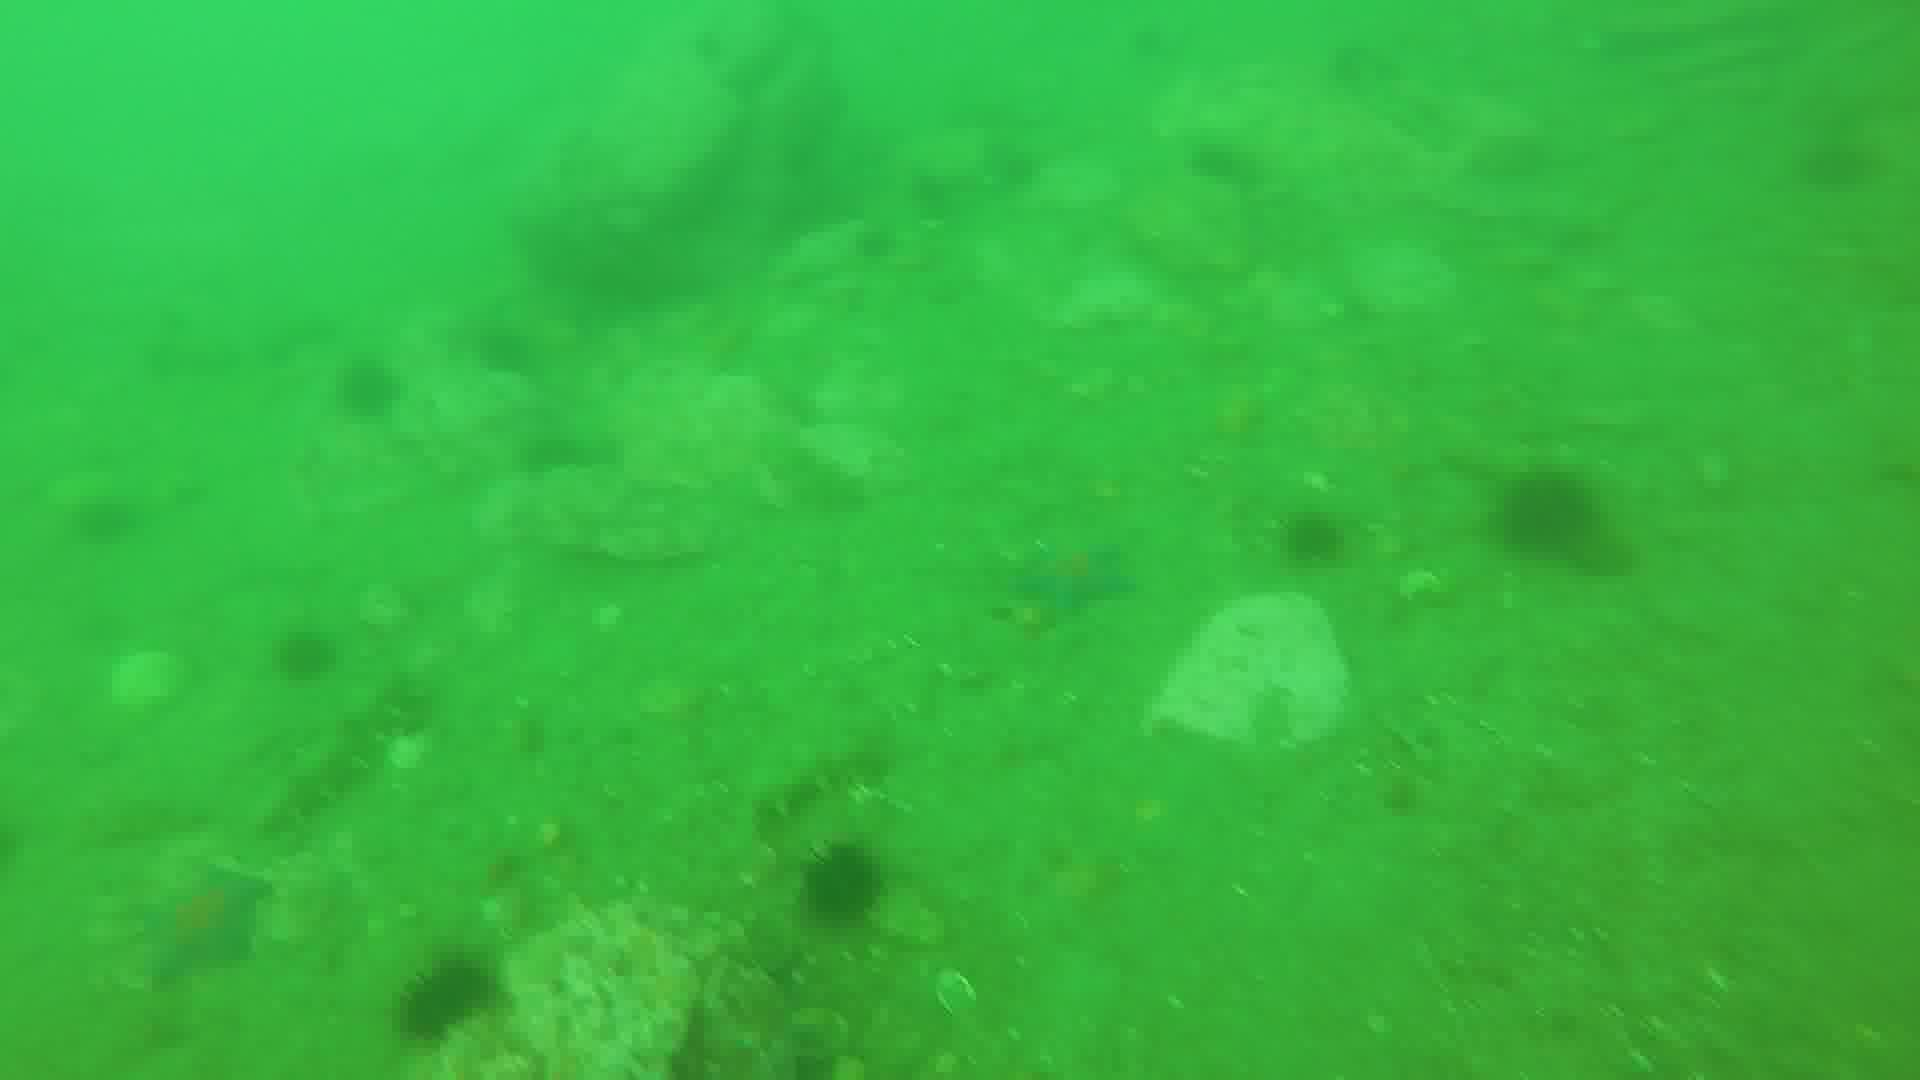echinus: (392, 945, 496, 1039), (1501, 463, 1601, 550), (811, 843, 887, 927), (334, 357, 414, 429), (1279, 506, 1358, 567), (269, 622, 331, 669)
holothurian: (255, 662, 431, 847), (754, 707, 897, 829)
starfish: (138, 862, 276, 977), (1011, 538, 1131, 604)
